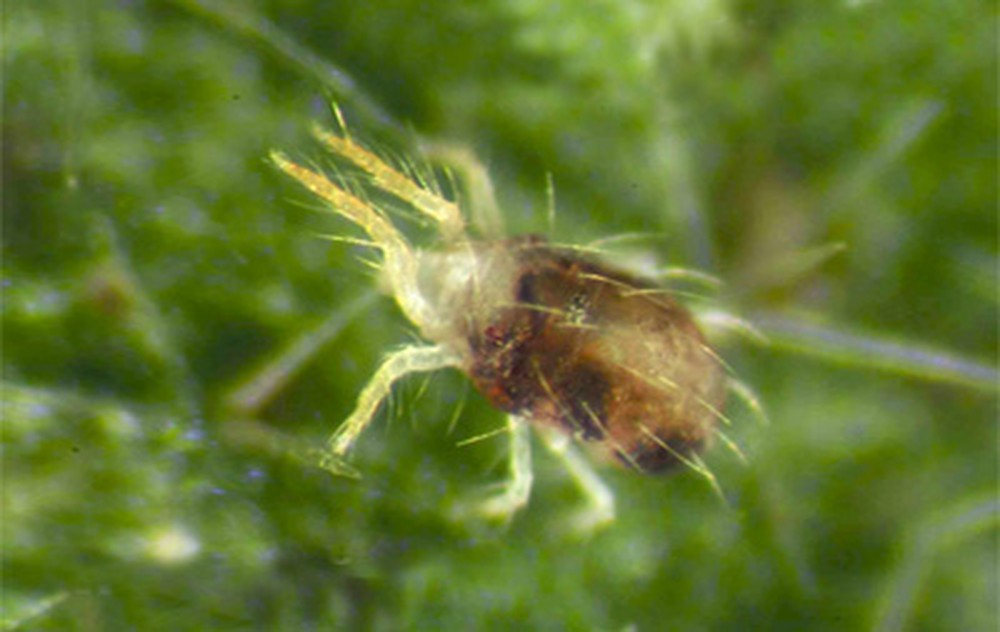Aracnido Rojo: (278, 117, 782, 548)
